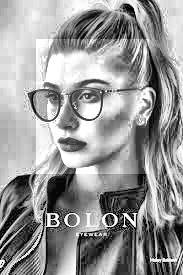sad: (36, 39, 149, 174)
